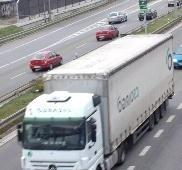Car: (27, 49, 63, 72), (95, 25, 119, 41), (171, 45, 182, 69), (109, 12, 127, 24)
Truck: (19, 34, 174, 170)
